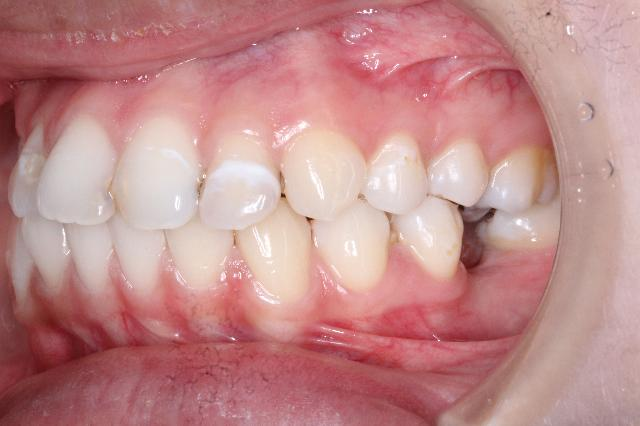canine class III 1/4: (235, 120, 399, 302)
molar class II 1/2: (488, 134, 562, 252)
